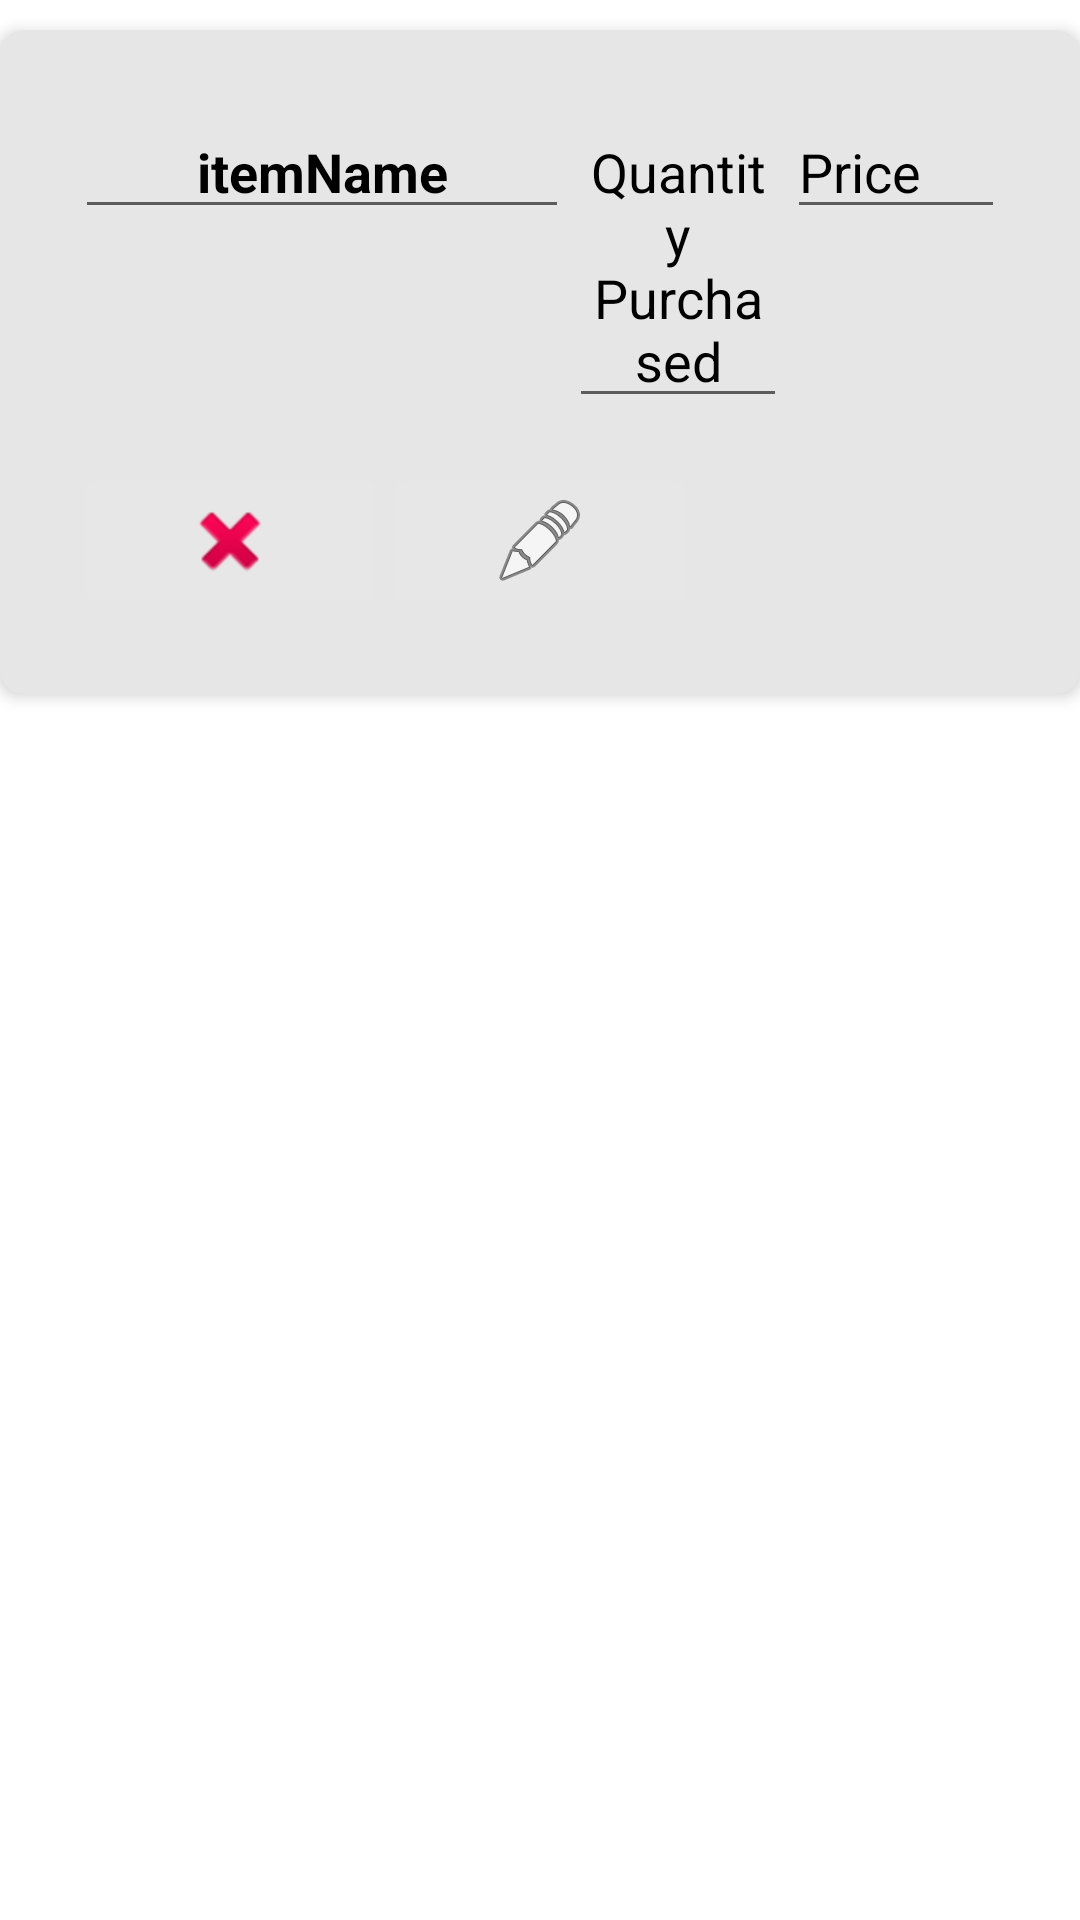

Screen size 1080x1920. Icon name, then its box in pixels as detection(x1, y1, x2, y2):
delete: detection(199, 512, 261, 571)
edit: detection(499, 500, 580, 581)
